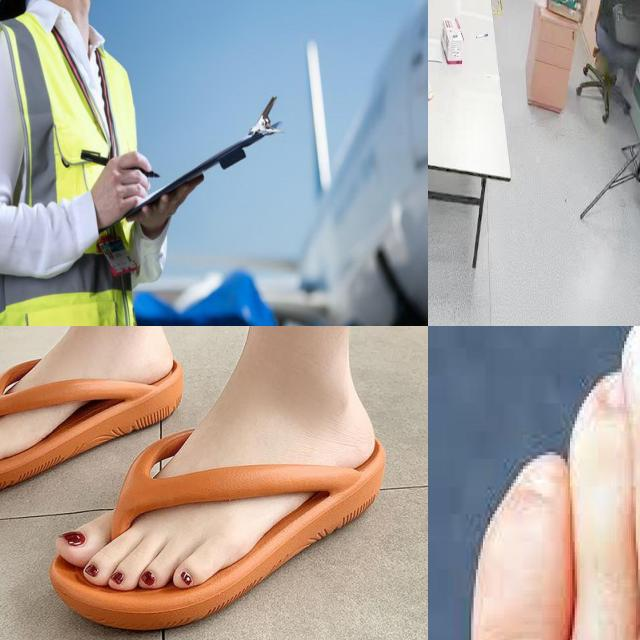Barefoots: (437, 326, 640, 640)
Sandals: (0, 326, 390, 632)
